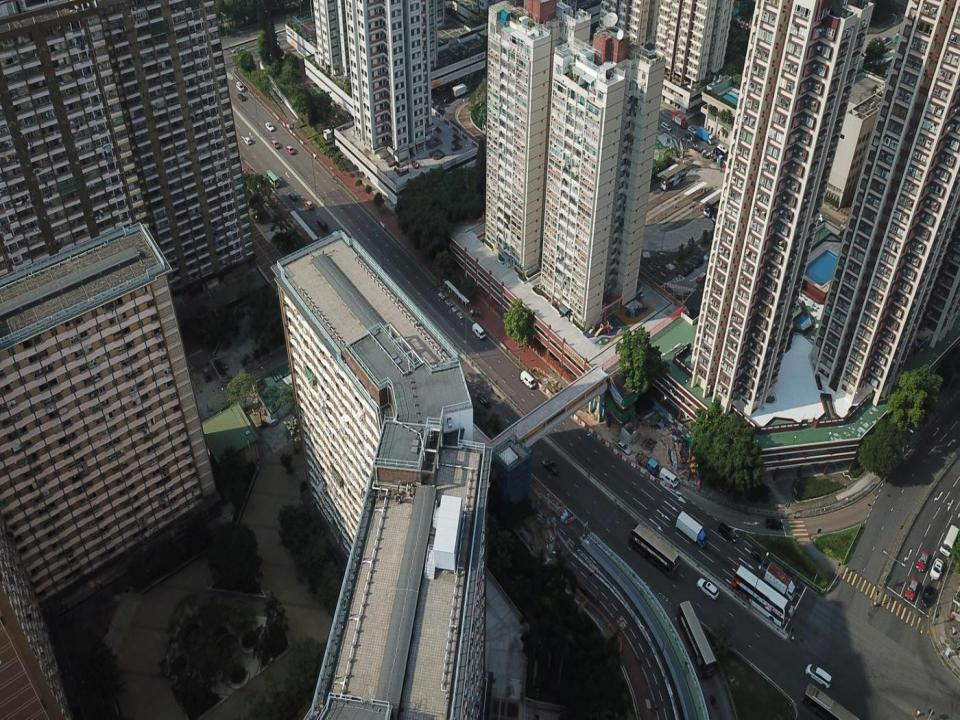bus: (729, 565, 790, 628), (676, 599, 717, 681), (627, 523, 681, 580), (801, 682, 860, 719), (659, 162, 688, 191), (712, 195, 739, 224), (703, 189, 729, 218), (939, 524, 959, 558), (266, 169, 281, 188)
car: (805, 662, 832, 689), (696, 578, 719, 600), (716, 522, 738, 544), (750, 546, 770, 566), (904, 577, 919, 601), (915, 549, 930, 573), (929, 558, 944, 580), (921, 583, 934, 608), (614, 438, 632, 456), (541, 458, 560, 475), (784, 571, 801, 588), (474, 392, 491, 408), (765, 518, 783, 531), (779, 602, 793, 618), (712, 146, 726, 161), (680, 264, 694, 277), (202, 366, 212, 382), (692, 255, 704, 268), (715, 144, 728, 156), (660, 120, 672, 132), (284, 144, 296, 156), (695, 271, 706, 284), (302, 199, 315, 210), (317, 218, 328, 231), (703, 250, 714, 262), (687, 124, 698, 136), (235, 80, 245, 93), (231, 45, 245, 54), (270, 139, 281, 150), (443, 94, 455, 104), (236, 92, 246, 102), (265, 122, 275, 132), (288, 192, 297, 202), (243, 136, 252, 145)
truck: (763, 562, 796, 600), (676, 510, 708, 548), (634, 450, 659, 476), (696, 125, 715, 145), (670, 109, 686, 128), (452, 82, 469, 98)
van: (658, 467, 679, 489), (520, 369, 536, 389), (471, 322, 486, 340), (684, 129, 698, 142)
